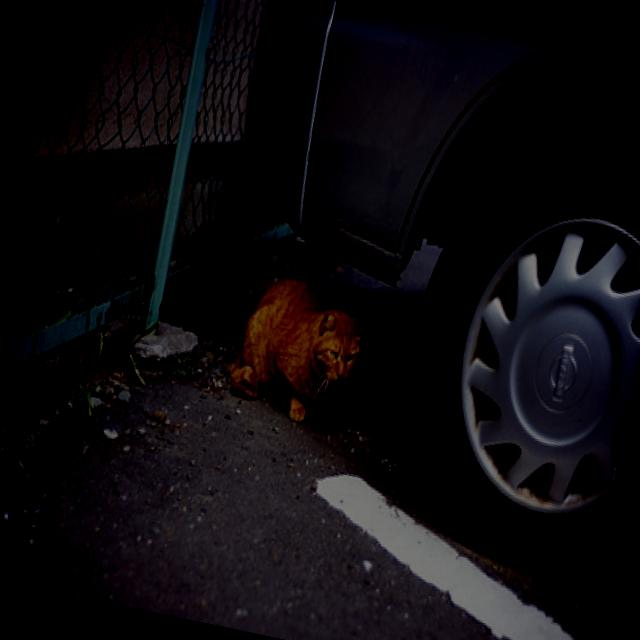Vehicle: (158, 0, 640, 586)
